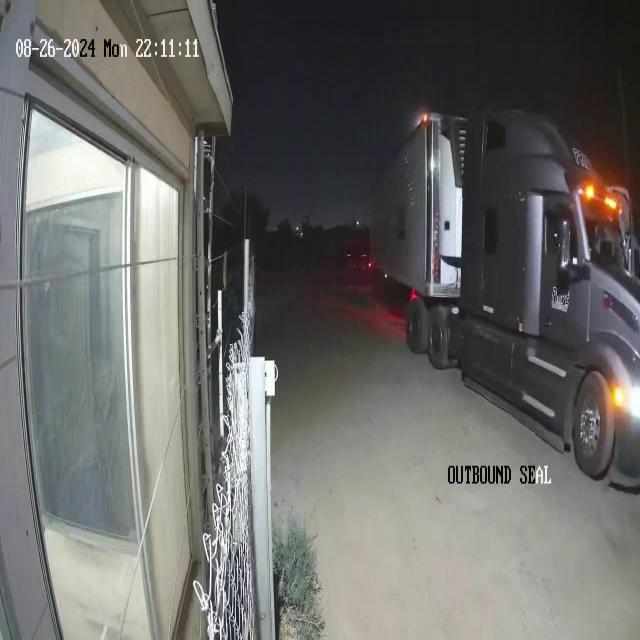TRUCK_IN: (370, 103, 640, 485)
